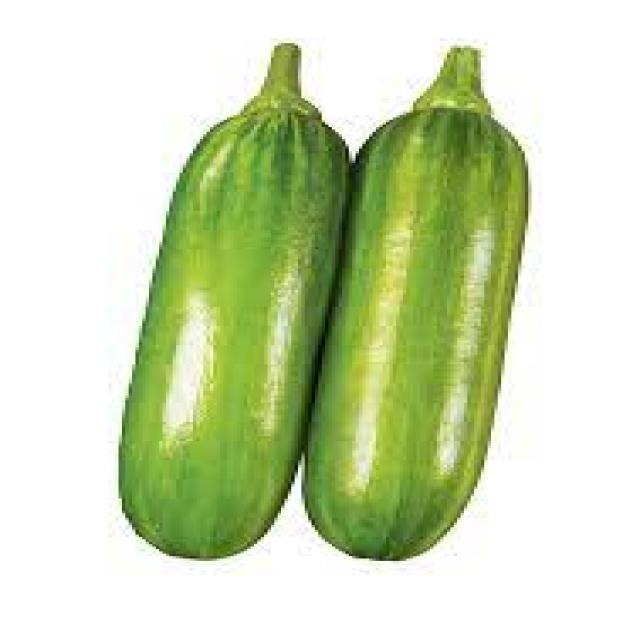zucchini: (119, 43, 352, 560), (308, 48, 528, 562)
